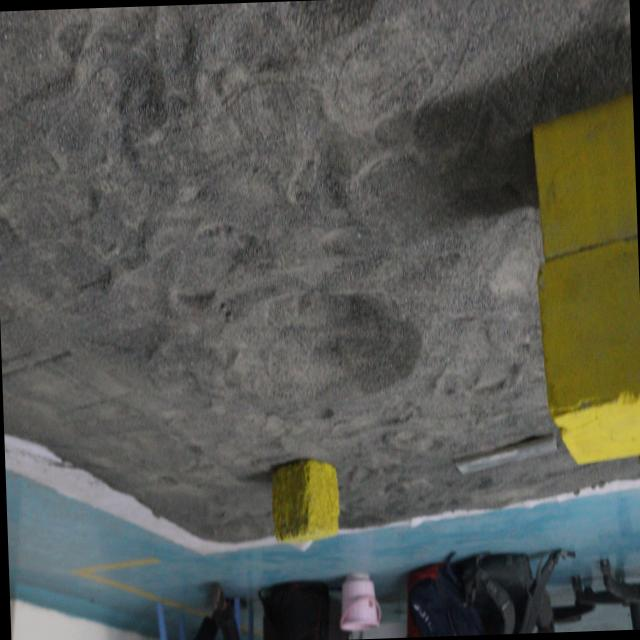box: (521, 72, 640, 464), (268, 447, 334, 548)
crater: (237, 272, 433, 433)
